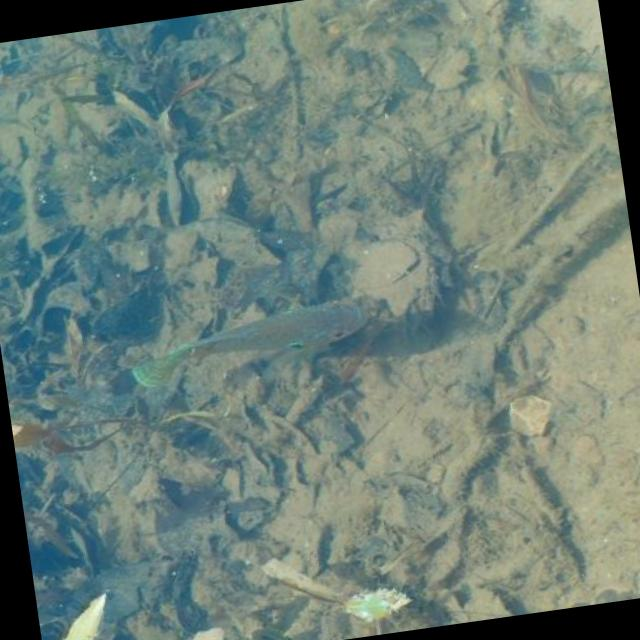Gunes Levregi: (119, 280, 395, 396)
